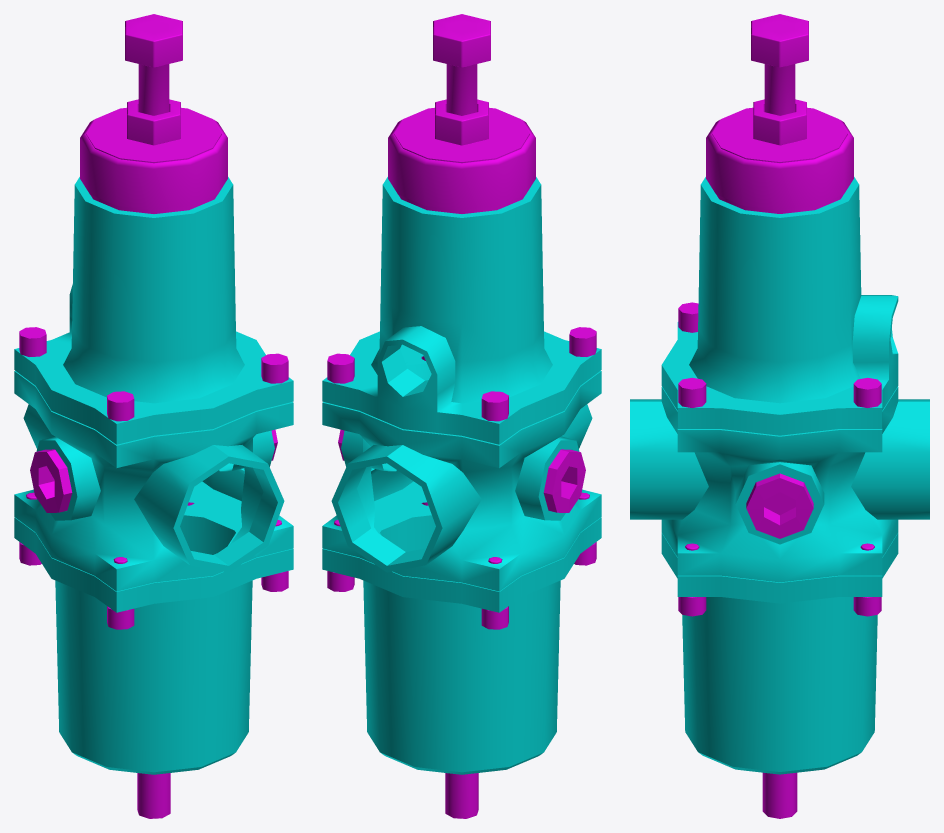
File: Regulador_Versa.fbx
3 renders of one model, left to right at view 1: azimuth 30°, elevation 25°; view 2: azimuth 150°, elevation 25°; view 3: azimuth 270°, elevation 25°, orthographic.
Parts seen in each view (by area): view 1: Cuerpo_low; view 2: Cuerpo_low; view 3: Cuerpo_low.
Part boxes in pixels (left/top/right/bottom): Cuerpo_low: left=14, top=14, right=293, bottom=818; Cuerpo_low: left=322, top=14, right=601, bottom=818; Cuerpo_low: left=630, top=14, right=929, bottom=818.
Size of the model in its own units: 22.64 by 79.04 by 27.37.
